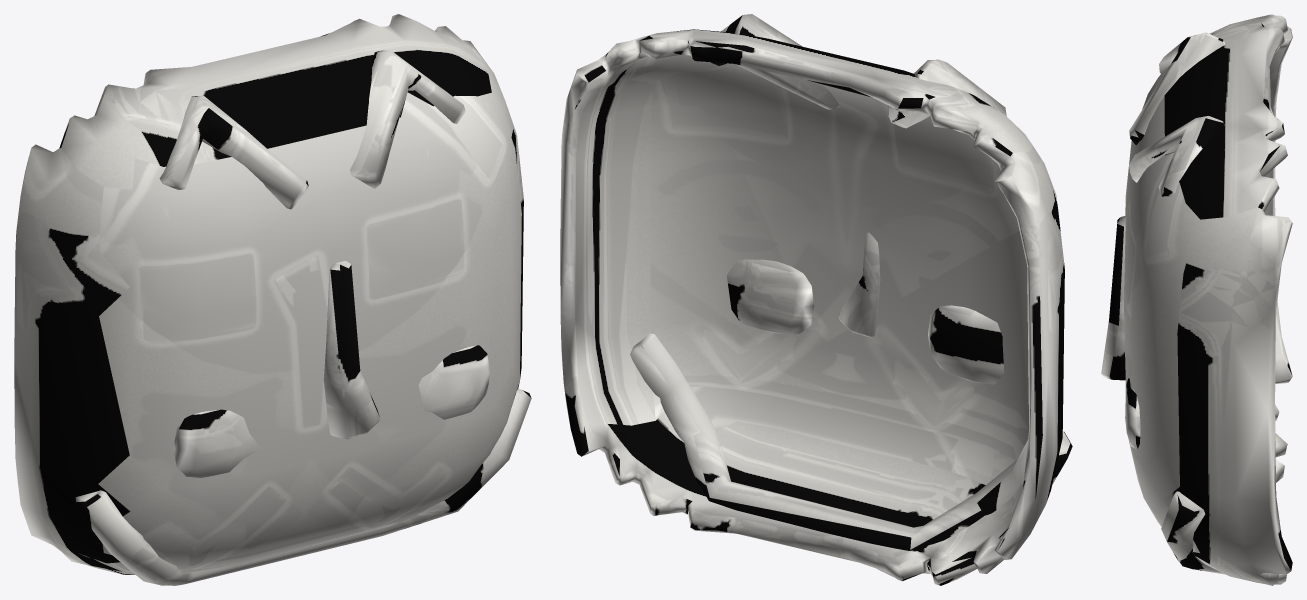
File: Mascarada_MascaraComedia.fbx
3 views of the same model, side by side, from view 1: azimuth 30°, elevation 25°; view 2: azimuth 150°, elevation 25°; view 3: azimuth 270°, elevation 25° (orthographic). The views are drawn at different scales.
Parts seen in each view (by area): view 1: Mascarada_MascaraComedia; view 2: Mascarada_MascaraComedia; view 3: Mascarada_MascaraComedia.
Part boxes in pixels (bbox=[...]): Mascarada_MascaraComedia: bbox=[14, 14, 531, 585]; Mascarada_MascaraComedia: bbox=[560, 14, 1072, 585]; Mascarada_MascaraComedia: bbox=[1101, 14, 1292, 585].
Size of the model in its own units: 1.19 by 1.15 by 0.4377.
